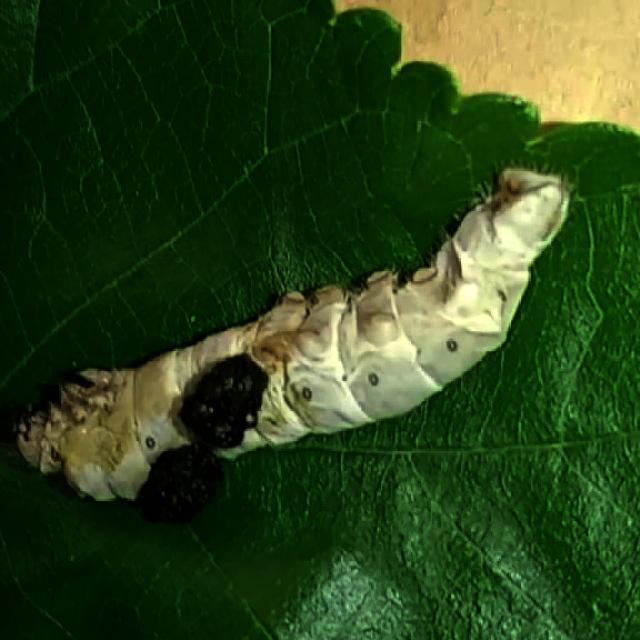Grasserie: (2, 144, 589, 542)
